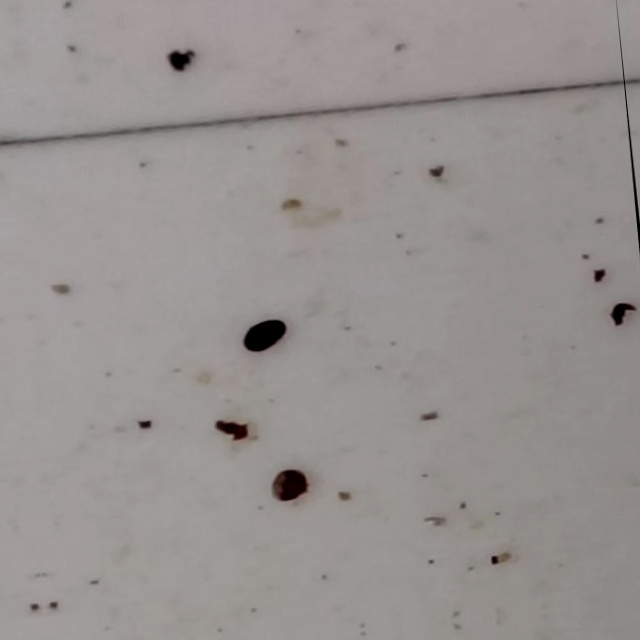varroa: (236, 317, 289, 357), (264, 467, 312, 507)
